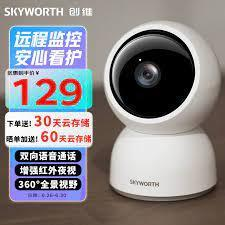maru: (103, 19, 225, 142)
